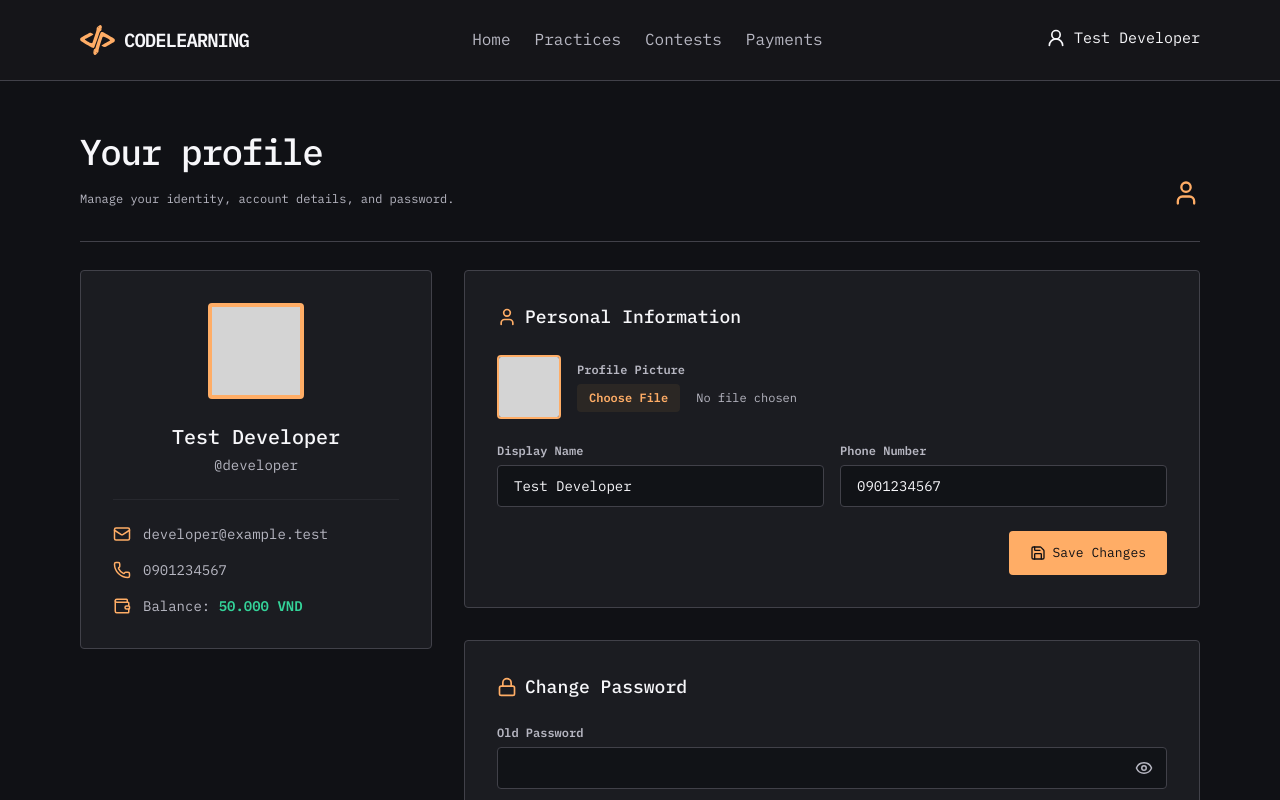
it: Profile and authorization › saves profile data as multipart form data
The image size is (1280, 800).
Replace the text in the field labelled "Display Name" with "Updated Developer" at {"x": 660, "y": 486}, box [497,465,824,507]
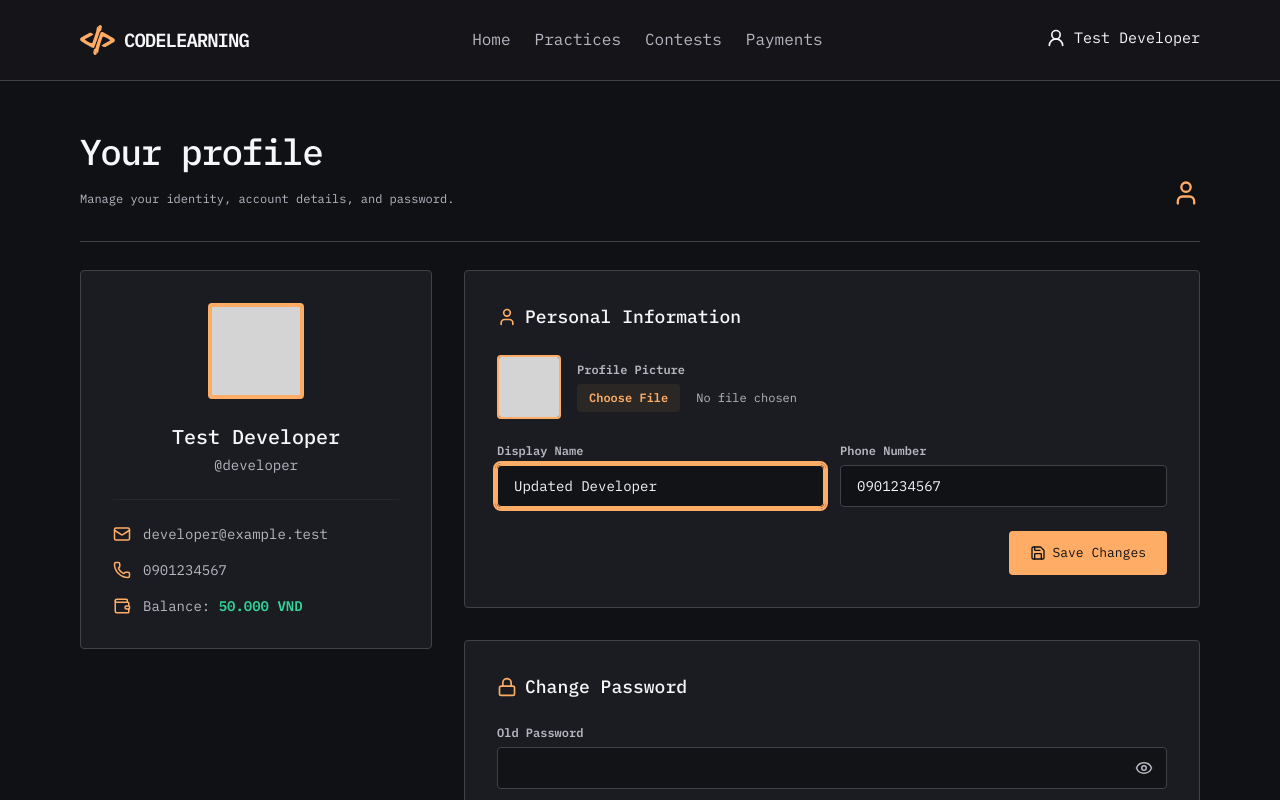
Click the button "Save Changes" at {"x": 1088, "y": 553}, box [1009,531,1167,575]
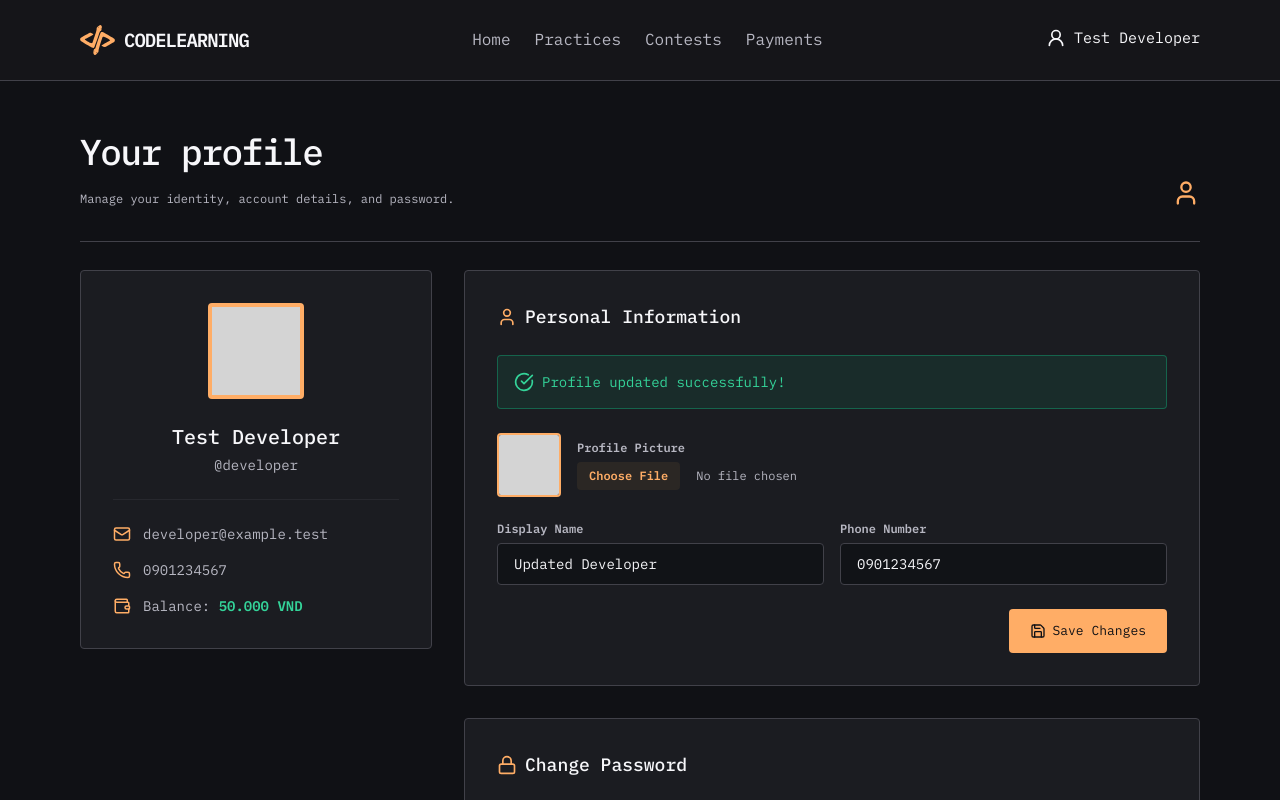
Check: the text "Profile updated successfully!" is shown, box [542,372,786,392]
